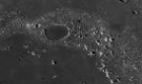crater: (40, 16, 83, 49)
